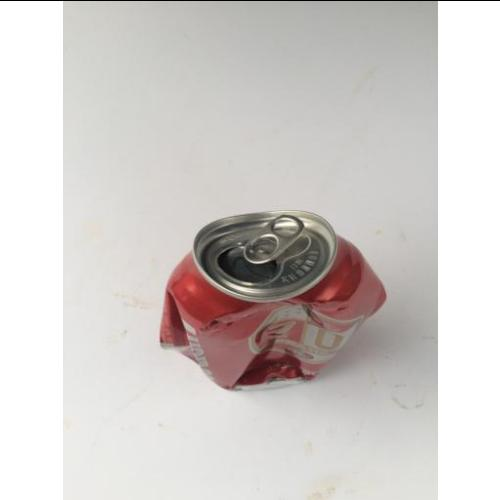metal: (163, 209, 384, 387)
